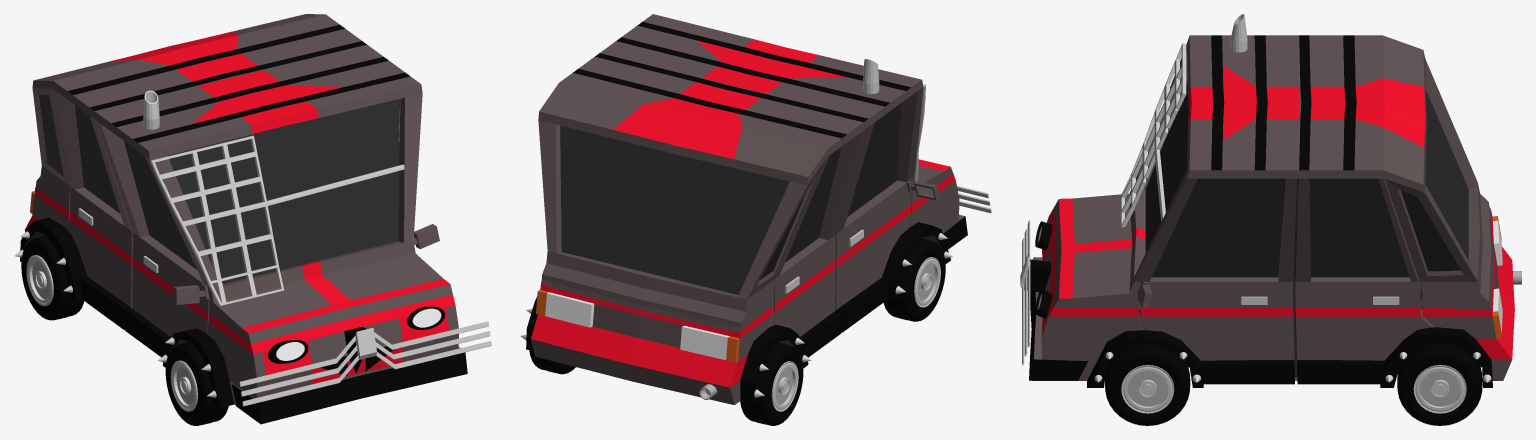
3 views of the same model, side by side, from view 1: azimuth 30°, elevation 25°; view 2: azimuth 150°, elevation 25°; view 3: azimuth 270°, elevation 25° (orthographic). The views are drawn at different scales.
Visible parts, largest first — view 1: BODY47B, Cylinder, WHEEL.004, WHEEL.001; view 2: BODY47B, WHEEL.004, WHEEL.001, Cylinder, WHEEL.002; view 3: BODY47B, WHEEL.002, WHEEL.003, Cylinder.
Boxes of the visible parts, x1=… form: BODY47B: x1=14, y1=14, x2=491, y2=424; Cylinder: x1=143, y1=90, x2=404, y2=305; WHEEL.004: x1=21, y1=236, x2=84, y2=320; WHEEL.001: x1=165, y1=342, x2=228, y2=425; BODY47B: x1=520, y1=14, x2=991, y2=404; WHEEL.004: x1=740, y1=342, x2=803, y2=425; WHEEL.001: x1=883, y1=238, x2=945, y2=321; Cylinder: x1=863, y1=59, x2=925, y2=181; WHEEL.002: x1=529, y1=350, x2=575, y2=374; BODY47B: x1=1020, y1=35, x2=1514, y2=387; WHEEL.002: x1=1397, y1=342, x2=1482, y2=425; WHEEL.003: x1=1105, y1=344, x2=1190, y2=425; Cylinder: x1=1121, y1=14, x2=1247, y2=227.
Size of the model in its own units: 146 by 151 by 229.
